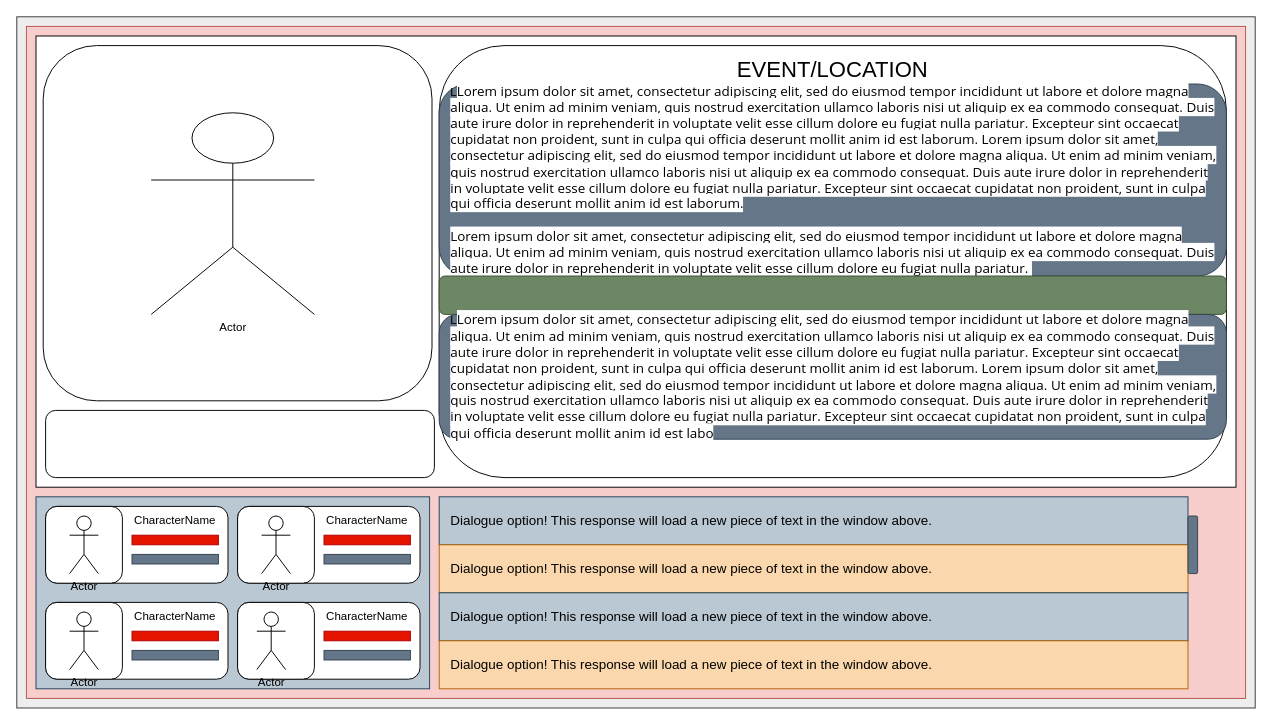
This 1272x725 diagram has some shape labels left out. Here are the shapes that lost their labels. From the top down, the centre of each, then its label:
the point at 832,294: ITEM ADDED: Cool thing
the point at 239,443: SPEAKER
